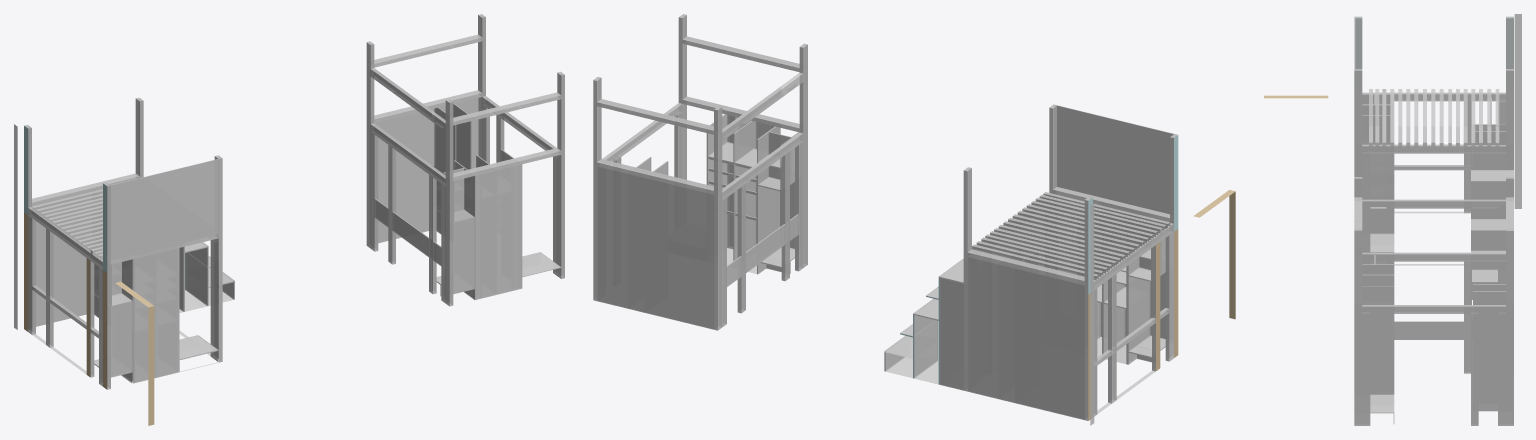
The model's file is scene-camera.gltf.
The picture shows the model from 3 angles, left to right: view 1: azimuth 30°, elevation 25°; view 2: azimuth 150°, elevation 25°; view 3: azimuth 270°, elevation 25°; orthographic projection. The views are drawn at different scales.
Parts seen in each view (by area): view 1: Node492, Node388, Node1048, Node462, Node686, Node936, Node572, Node573, Node502, Node849, Node850, Node238 (+42 smaller); view 2: Node548, Node686, Node492, Node388, Node936, Node572, Node915, Node554, Node96, Node94, Node931, Node570 (+30 smaller); view 3: Node1047, Node927, Node439, Node925, Node895, Node648, Node126, Node646, Node985, Node982, Node952, Node654 (+78 smaller).
Part boxes in pixels (<box>): Node492: <box>111,159,218,264</box>; Node388: <box>111,160,217,259</box>; Node1048: <box>476,164,522,299</box>; Node462: <box>134,248,179,382</box>; Node686: <box>375,99,477,241</box>; Node936: <box>374,109,434,243</box>; Node572: <box>36,221,86,326</box>; Node573: <box>36,222,85,325</box>; Node502: <box>157,267,178,376</box>; Node849: <box>498,167,512,292</box>; Node850: <box>482,171,495,296</box>; Node238: <box>111,301,132,377</box>; Node548: <box>967,257,1084,419</box>; Node686: <box>597,166,713,329</box>; Node492: <box>1058,106,1172,217</box>; Node388: <box>1057,105,1173,214</box>; Node936: <box>646,179,713,328</box>; Node572: <box>1017,270,1083,418</box>; Node915: <box>598,167,626,306</box>; Node554: <box>969,258,997,397</box>; Node96: <box>940,278,963,390</box>; Node94: <box>941,279,962,388</box>; Node931: <box>629,175,643,311</box>; Node570: <box>1000,266,1014,401</box>; Node1047: <box>1362,286,1394,394</box>; Node927: <box>1473,292,1505,411</box>; Node439: <box>1362,126,1394,233</box>; Node925: <box>1473,292,1505,410</box>; Node895: <box>1371,314,1393,393</box>; Node648: <box>1354,230,1362,425</box>; Node126: <box>1514,14,1521,208</box>; Node646: <box>1506,231,1513,425</box>; Node985: <box>1394,322,1463,339</box>; Node982: <box>1395,322,1463,338</box>; Node952: <box>1362,306,1505,313</box>; Node654: <box>1362,314,1370,425</box>.
Bounding box in the file's own units: 12.67 × 5.32 × 6.36.
